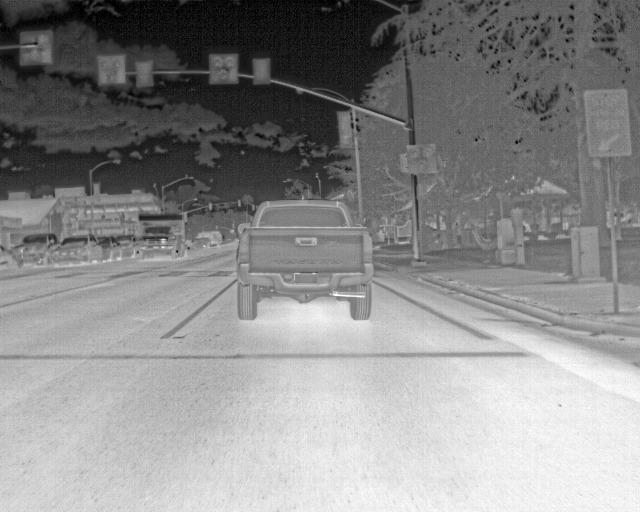car: (236, 201, 372, 320), (138, 213, 188, 260), (52, 233, 104, 266), (12, 233, 59, 267), (97, 237, 122, 262), (115, 235, 140, 259), (190, 238, 209, 249)
light: (19, 30, 55, 64), (97, 54, 127, 83), (210, 53, 238, 83), (407, 145, 437, 173)
sign: (586, 90, 633, 158), (135, 61, 153, 88), (253, 59, 270, 86)
